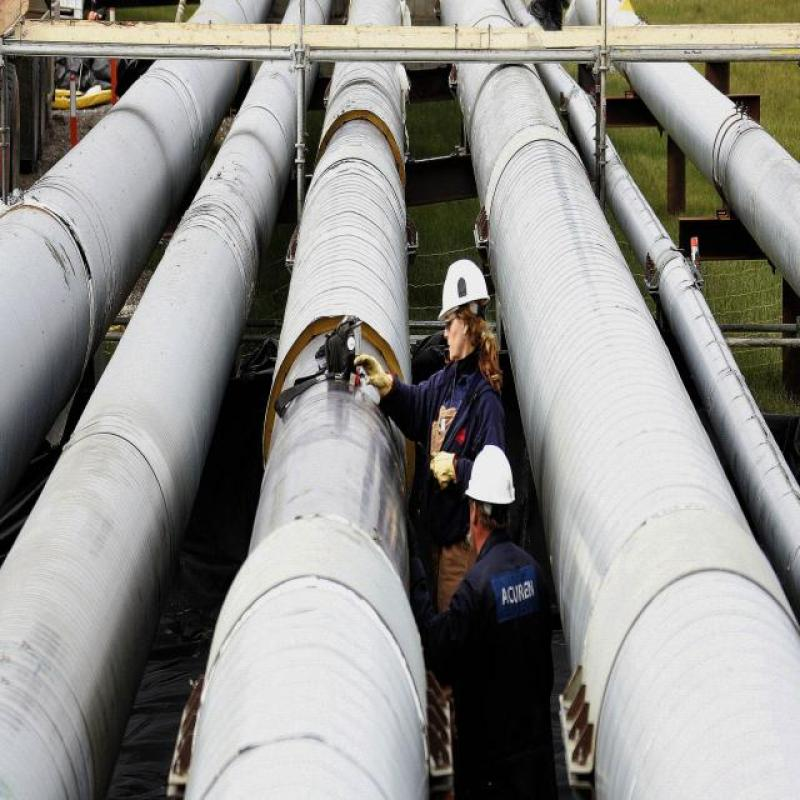Healthy: (0, 14, 773, 800)
